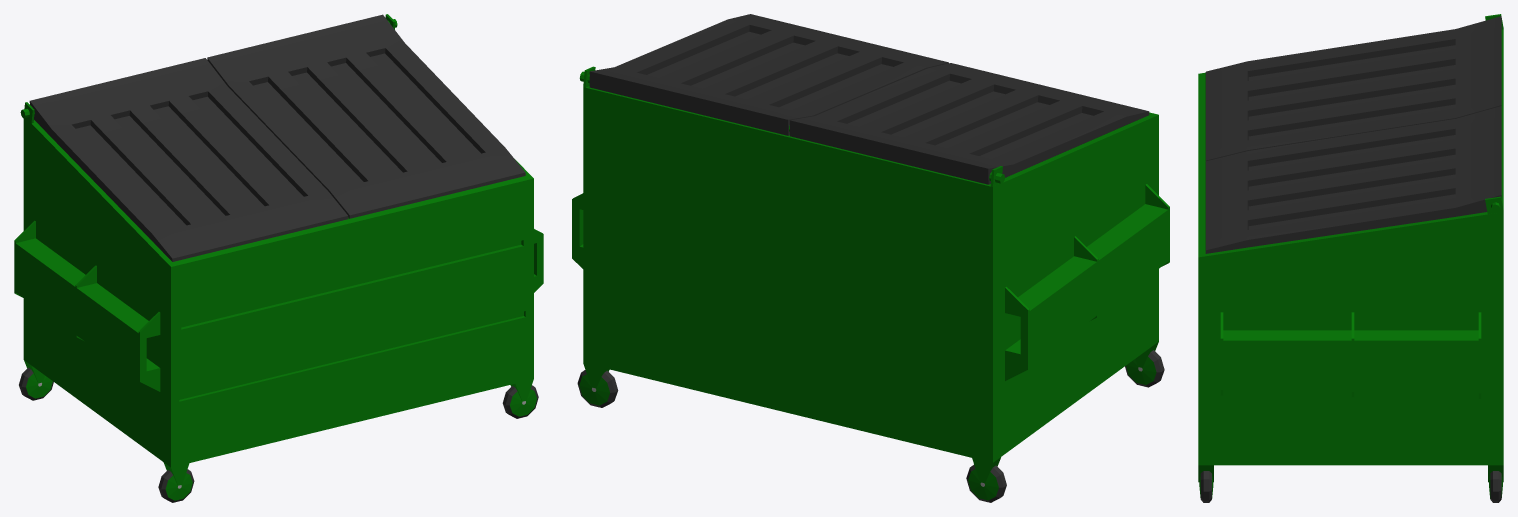
The model's file is Dumpster_02.fbx.
3 renders of one model, left to right at view 1: azimuth 30°, elevation 25°; view 2: azimuth 150°, elevation 25°; view 3: azimuth 270°, elevation 25°, orthographic. The views are drawn at different scales.
Parts seen in each view (by area): view 1: Bin, Lid_left, Lid_right; view 2: Bin, Lid_left, Lid_right; view 3: Bin, Lid_right, Lid_left.
Boxes of the visible parts, box(x1,y1,x2,y2) form: Bin: box(14, 14, 543, 502); Lid_left: box(29, 58, 348, 261); Lid_right: box(207, 14, 525, 218); Bin: box(572, 66, 1169, 502); Lid_left: box(790, 63, 1149, 184); Lid_right: box(589, 14, 948, 135); Bin: box(1198, 14, 1503, 502); Lid_right: box(1205, 106, 1501, 253); Lid_left: box(1205, 16, 1501, 161).
Size of the model in its own units: 24.22 by 17.01 by 15.29.
